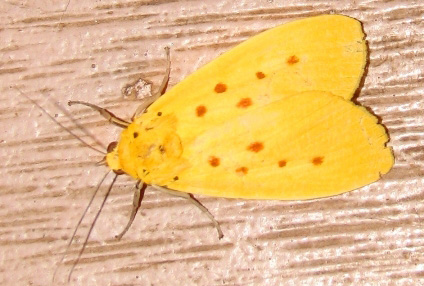Agape chloropyga: (13, 9, 396, 281)
moth: (15, 11, 398, 283)
